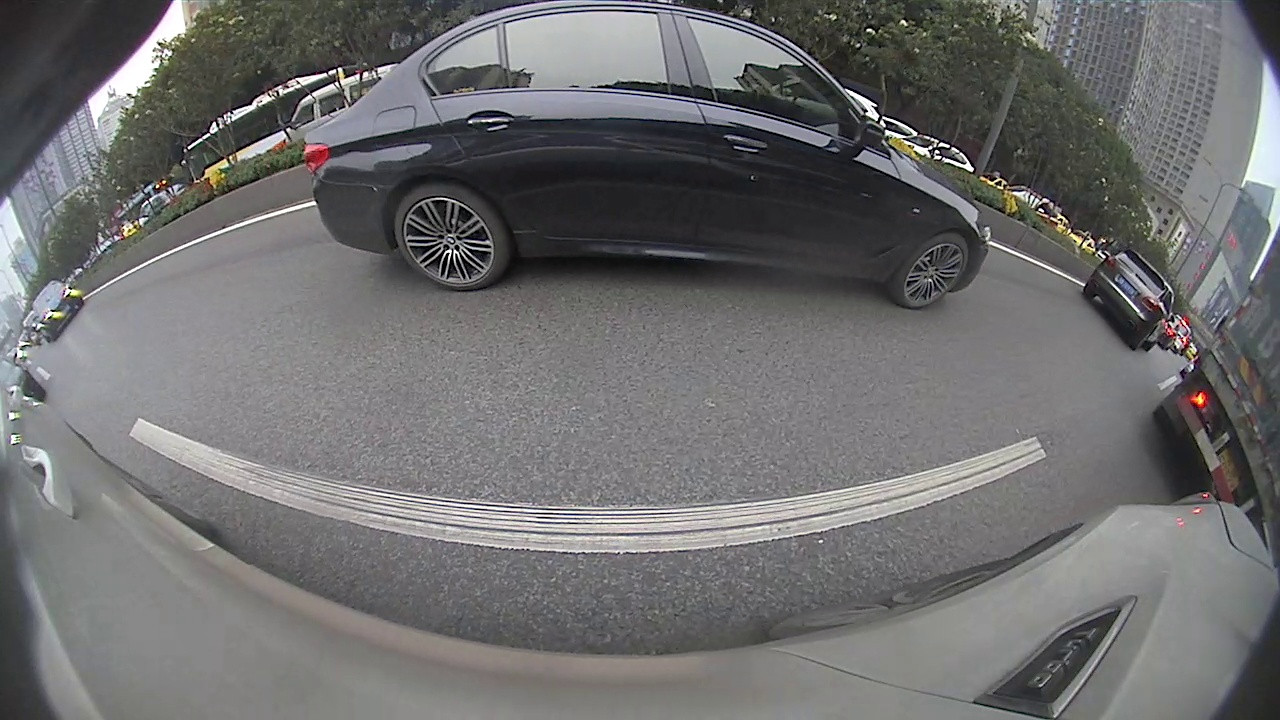car: (1, 353, 110, 486), (367, 168, 464, 229), (457, 157, 548, 216), (657, 145, 736, 202)
front: (452, 191, 462, 207), (540, 182, 548, 198)
rear: (414, 197, 430, 219), (518, 185, 528, 206)
